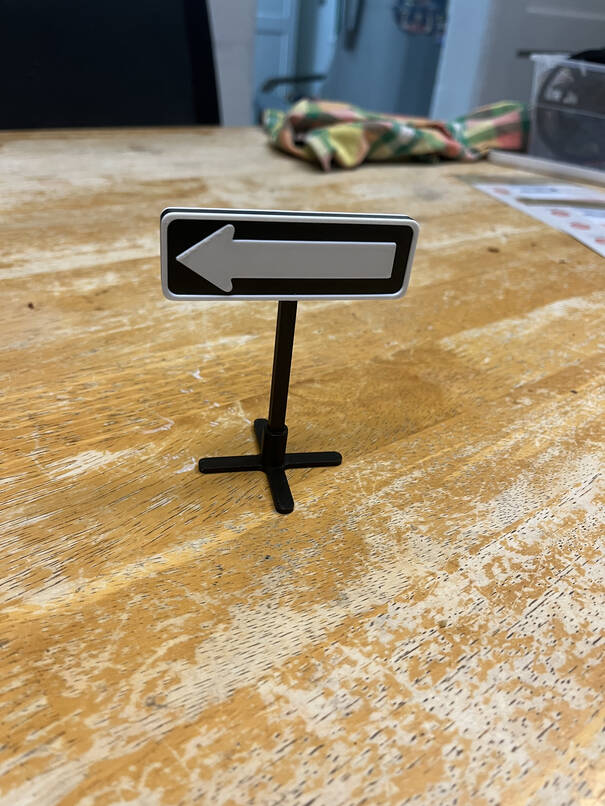sign_oneway_left: (156, 206, 415, 310)
